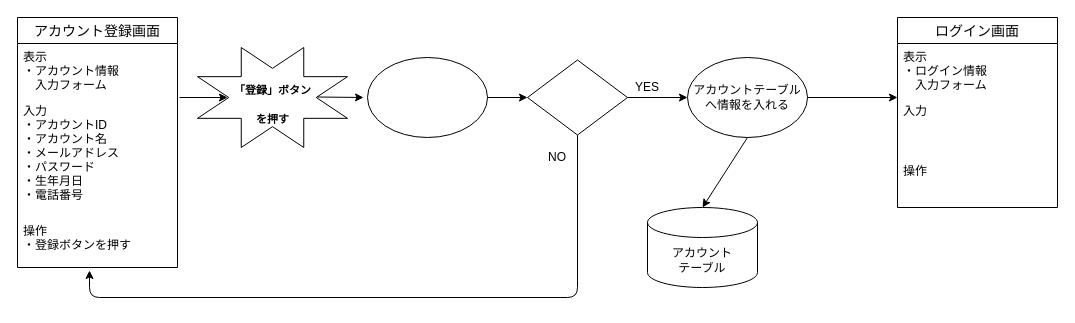
This 1075x323 diagram has some shape labels left out. The centre of each missing label's shape, as x and y in pixels:
"アカウント登録 処理をする" belongs at pixel 427 97.
"入力データが 正しいか" belongs at pixel 577 97.
